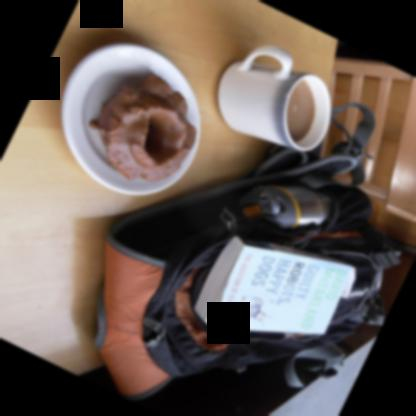backpack: (92, 168, 408, 402)
